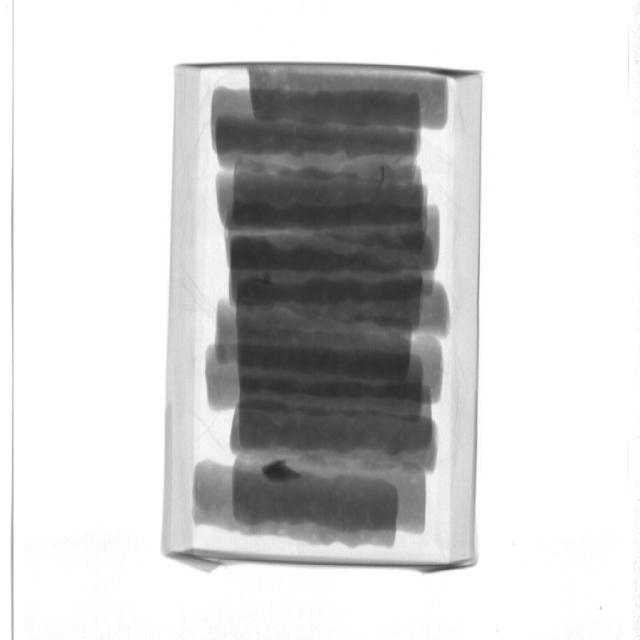ym: (263, 460, 304, 482), (379, 162, 388, 194), (264, 271, 273, 286)
